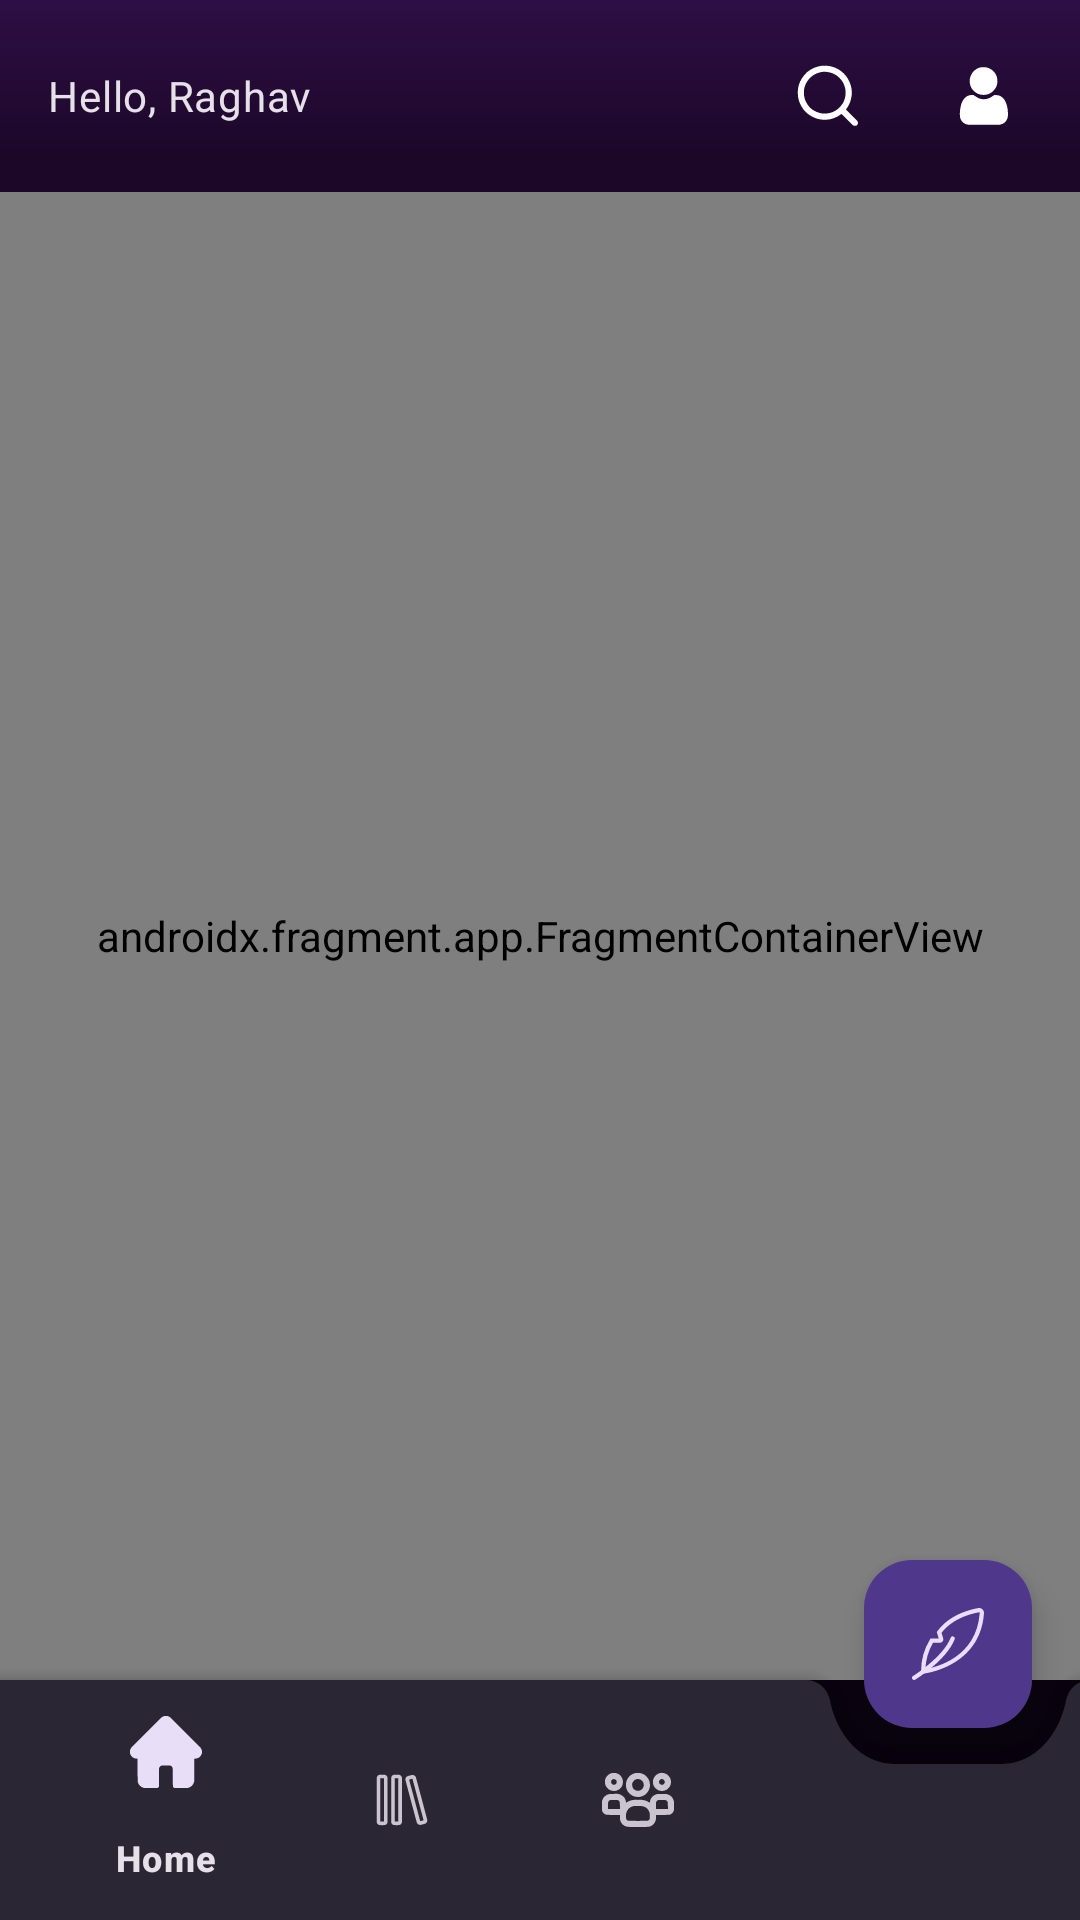

Icons on this 1080px×1920px Android screen, each with the point to tap as (x,y):
search: (827,95)
user: (983,96)
